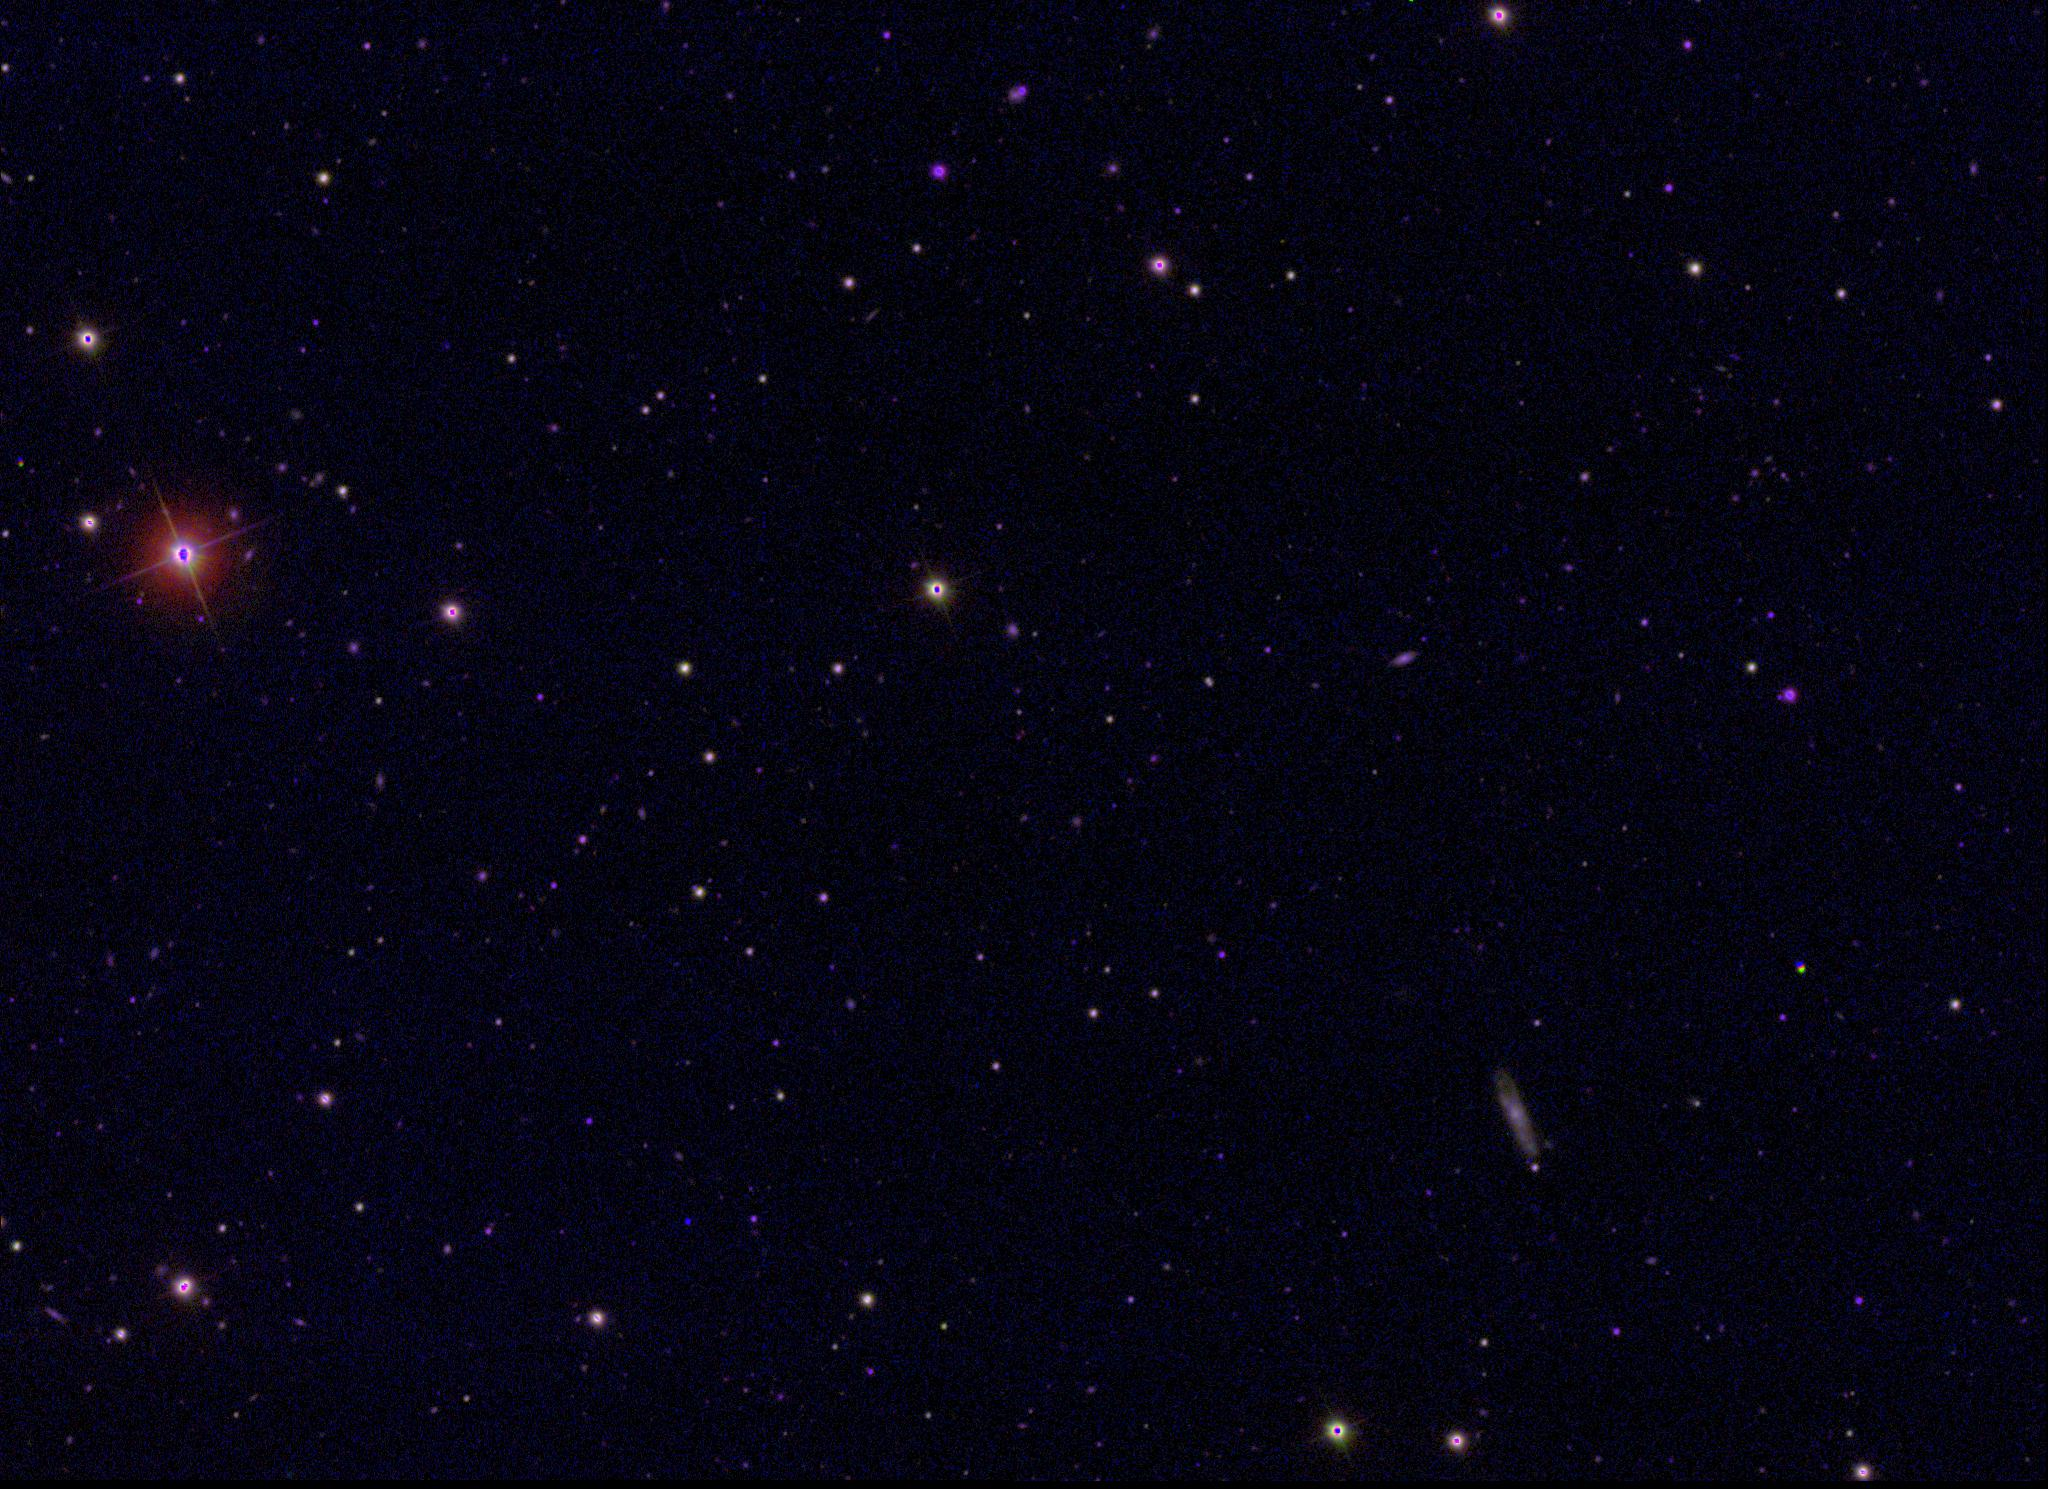L: (684, 1217, 698, 1231)
